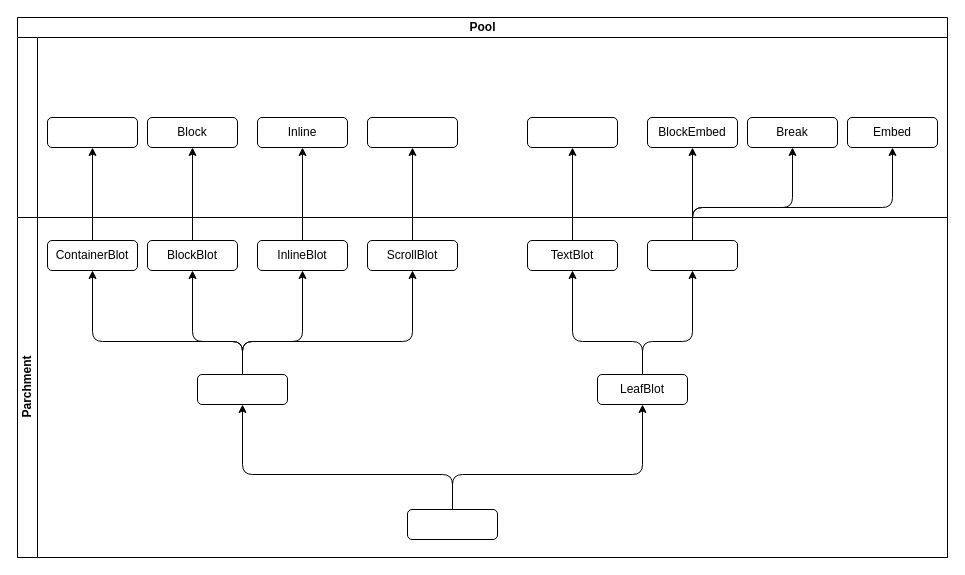
This 965x575 diagram has some shape labels left out. The shapes that lost their labels are listed below. From the top down, each one's box as (x1, y1, x2, y2) in pixels, then its label:
(46, 116, 138, 148): Container
(366, 116, 458, 148): Scroll
(16, 36, 948, 218): Quill
(526, 116, 618, 148): Text
(646, 240, 738, 270): EmbedBlot
(196, 374, 288, 404): ParentBlot
(406, 508, 498, 540): ShadowBlot
